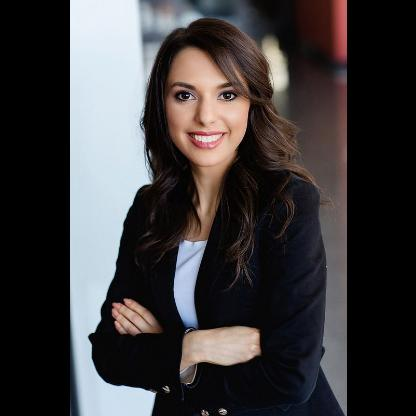Female: (164, 46, 250, 167)
